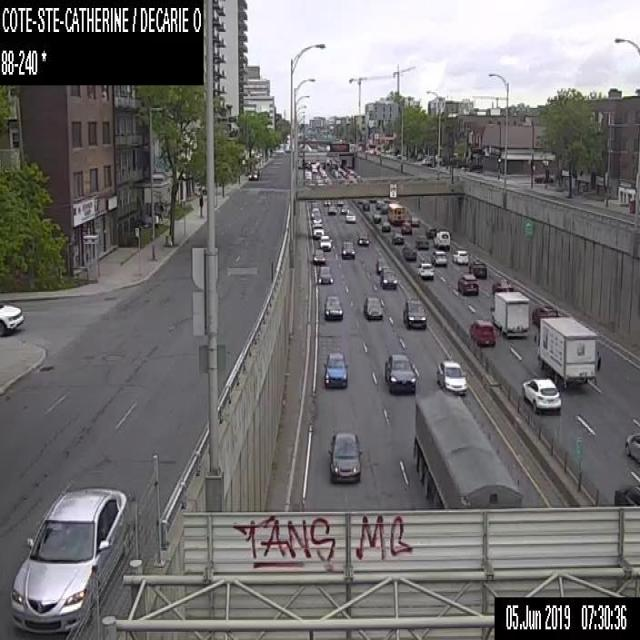vehicle: (8, 488, 129, 630), (413, 393, 522, 508), (533, 316, 596, 387), (327, 431, 363, 484), (490, 291, 529, 336), (384, 353, 416, 393), (522, 377, 560, 410), (436, 360, 466, 393), (323, 349, 347, 387), (0, 298, 24, 334), (402, 298, 427, 328), (468, 319, 495, 345), (613, 482, 639, 506), (362, 295, 383, 320), (624, 430, 639, 462), (323, 295, 342, 320), (457, 273, 478, 294), (532, 306, 556, 324), (386, 202, 404, 225), (379, 268, 396, 288), (468, 259, 486, 277), (491, 279, 513, 293), (433, 230, 449, 249), (317, 266, 333, 283), (340, 239, 355, 257), (430, 249, 446, 265), (417, 262, 433, 278), (451, 250, 468, 262), (414, 235, 428, 249), (402, 247, 416, 261), (318, 234, 331, 249), (312, 248, 324, 264), (357, 232, 370, 245), (376, 258, 388, 272), (391, 232, 403, 244), (247, 168, 258, 180), (312, 224, 323, 236), (426, 226, 436, 238), (401, 222, 411, 234), (381, 220, 390, 232), (345, 212, 355, 222), (371, 213, 381, 222), (312, 214, 321, 223), (327, 205, 336, 214), (375, 200, 384, 208), (304, 170, 311, 180), (421, 158, 431, 165), (361, 202, 369, 210), (311, 208, 319, 216), (411, 216, 419, 224), (341, 204, 348, 213), (380, 206, 387, 213), (311, 163, 316, 172), (310, 201, 317, 207), (336, 198, 343, 204), (324, 199, 329, 204), (322, 172, 326, 177)
